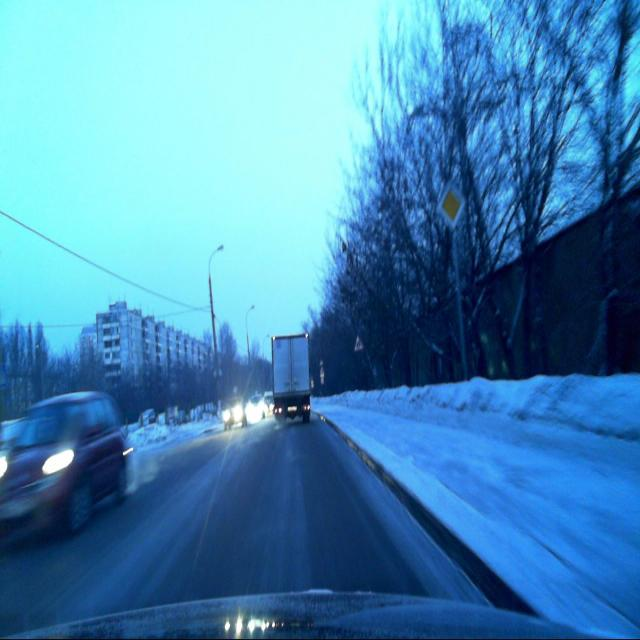object: (452, 228, 468, 380)
road sign: (438, 178, 466, 228), (352, 335, 364, 354)
